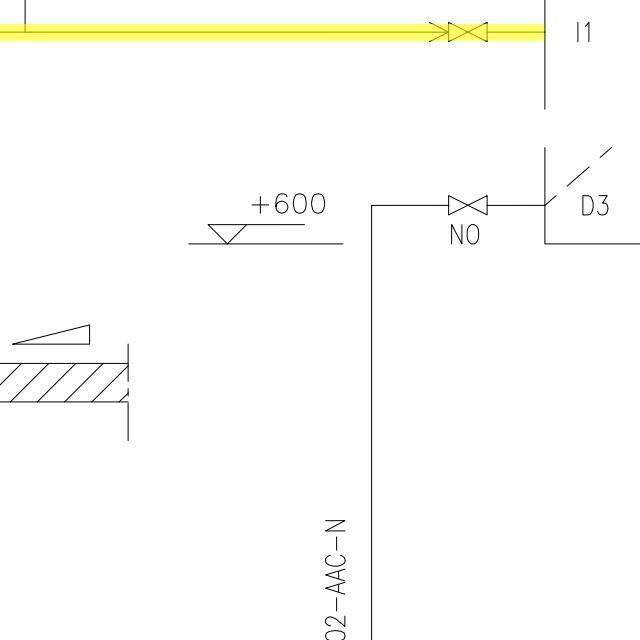GV: (439, 18, 494, 49), (443, 190, 492, 218)
